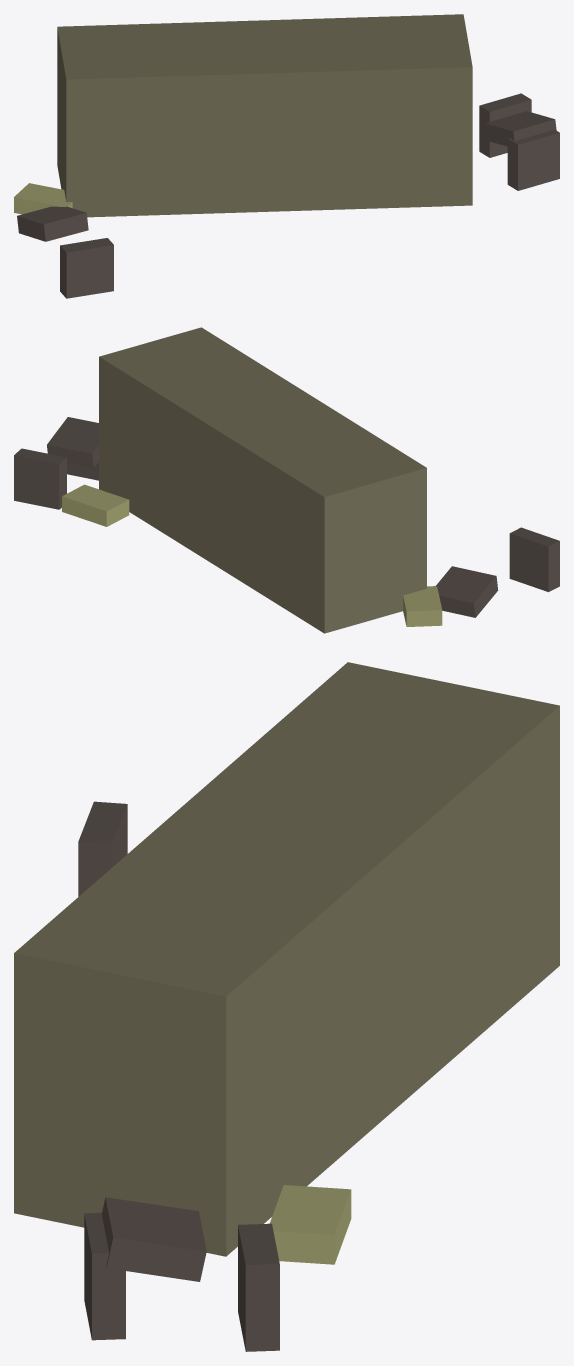
The model's file is SM_BarricadaCivil_v3_Furgoneta_e2_MuyDanado_LOD0.fbx.
The picture shows the model from 3 angles, top to bottom: view 1: azimuth 30°, elevation 25°; view 2: azimuth 150°, elevation 25°; view 3: azimuth 270°, elevation 25°; orthographic projection. The views are drawn at different scales.
Visible parts, largest first — view 1: SM_barricada_civil_v14_LOD0; view 2: SM_barricada_civil_v14_LOD0; view 3: SM_barricada_civil_v14_LOD0.
Boxes of the visible parts, x1,y1,x2,y2 form: SM_barricada_civil_v14_LOD0: (14,14,559,298); SM_barricada_civil_v14_LOD0: (14,327,559,633); SM_barricada_civil_v14_LOD0: (14,662,559,1351).
Size of the model in its own units: 8.02 by 2.32 by 3.99.
